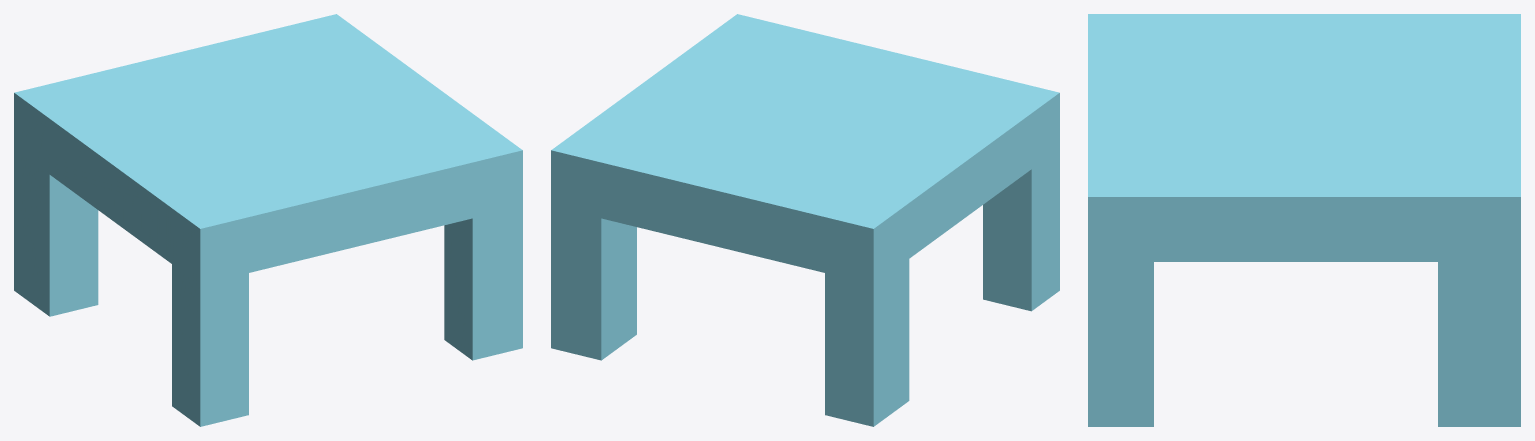
File: table.fbx
3 views of the same model, side by side, from view 1: azimuth 30°, elevation 25°; view 2: azimuth 150°, elevation 25°; view 3: azimuth 270°, elevation 25° (orthographic). The views are drawn at different scales.
Visible parts, largest first — view 1: Cube; view 2: Cube; view 3: Cube.
Boxes of the visible parts, left/top/right/bottom form: Cube: left=14, top=14, right=522, bottom=426; Cube: left=551, top=14, right=1059, bottom=426; Cube: left=1088, top=14, right=1520, bottom=426.
Size of the model in its own units: 200 by 117 by 200.
